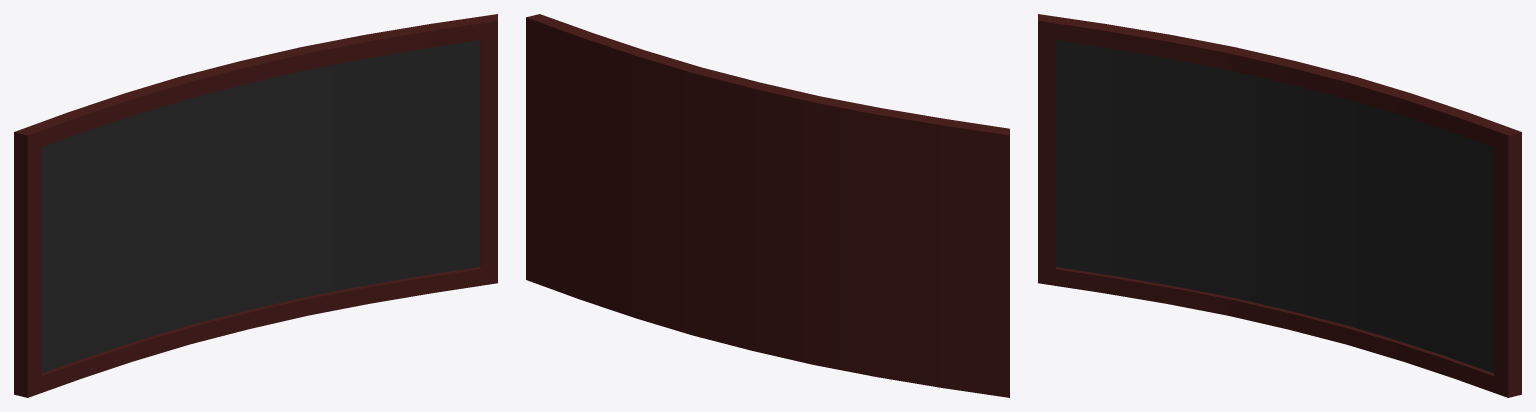
File: Itr_Obj_Monitor_LCD_Curved_Screen_Off_02.FBX
3 renders of one model, left to right at view 1: azimuth 30°, elevation 25°; view 2: azimuth 150°, elevation 25°; view 3: azimuth 330°, elevation 25°, orthographic.
Visible parts, largest first — view 1: Itr_Obj_Monitor_LCD_Curved_Screen_Off_02; view 2: Itr_Obj_Monitor_LCD_Curved_Screen_Off_02; view 3: Itr_Obj_Monitor_LCD_Curved_Screen_Off_02.
Part boxes in pixels (x1,y1,x2,y2): Itr_Obj_Monitor_LCD_Curved_Screen_Off_02: (14,14,497,397); Itr_Obj_Monitor_LCD_Curved_Screen_Off_02: (526,14,1009,397); Itr_Obj_Monitor_LCD_Curved_Screen_Off_02: (1038,14,1521,397).
Size of the model in its own units: 67.75 by 35.13 by 5.58.
